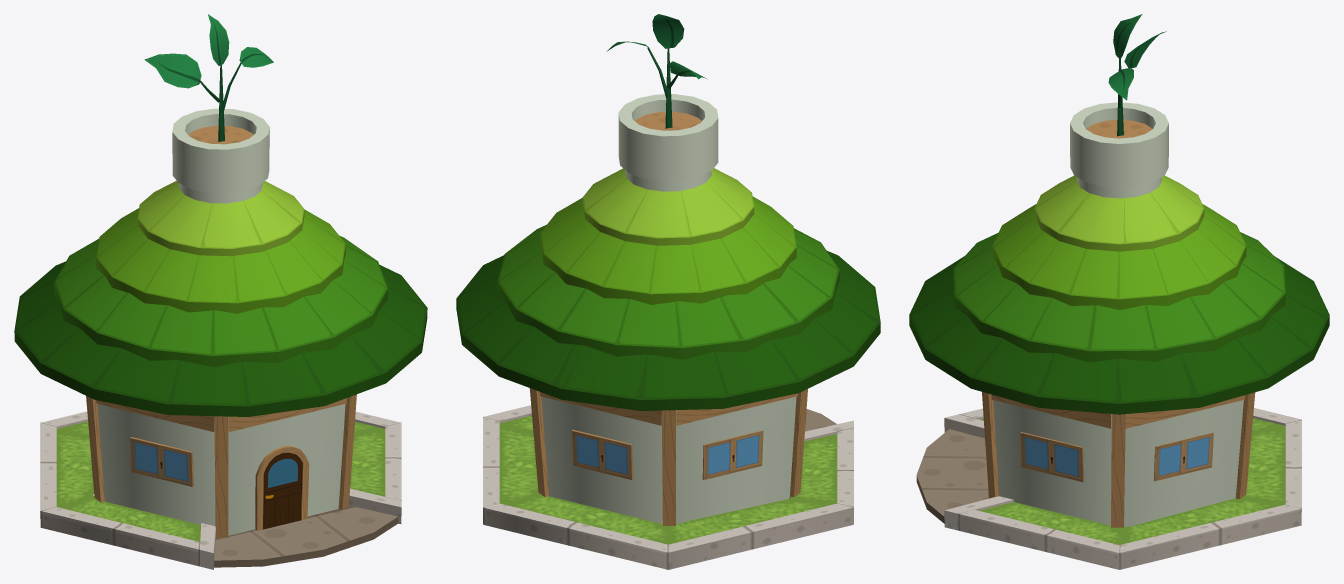
File: building_Herbal_lv3.FBX
The picture shows the model from 3 angles, left to right: view 1: azimuth 30°, elevation 25°; view 2: azimuth 150°, elevation 25°; view 3: azimuth 270°, elevation 25°; orthographic projection. The views are drawn at different scales.
Parts seen in each view (by area): view 1: building_Herbal_roof_lv3, building_Herbal_lv3, building_Herbal_main_lv3, building_Herbal_plant_lv3; view 2: building_Herbal_roof_lv3, building_Herbal_lv3, building_Herbal_main_lv3, building_Herbal_plant_lv3; view 3: building_Herbal_roof_lv3, building_Herbal_lv3, building_Herbal_main_lv3, building_Herbal_plant_lv3.
Boxes of the visible parts, box(x1,y1,x2,y2) form: building_Herbal_roof_lv3: box(14, 180, 427, 416); building_Herbal_lv3: box(40, 108, 401, 569); building_Herbal_main_lv3: box(97, 404, 345, 535); building_Herbal_plant_lv3: box(144, 14, 273, 141); building_Herbal_roof_lv3: box(456, 168, 880, 410); building_Herbal_lv3: box(483, 94, 853, 569); building_Herbal_main_lv3: box(541, 396, 796, 523); building_Herbal_plant_lv3: box(606, 14, 707, 128); building_Herbal_roof_lv3: box(909, 175, 1329, 414); building_Herbal_lv3: box(916, 102, 1301, 569); building_Herbal_main_lv3: box(993, 400, 1243, 526); building_Herbal_plant_lv3: box(1108, 14, 1166, 136).
Size of the model in its own units: 524 by 658 by 523.
